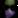with_mask: (1, 2, 18, 18)
